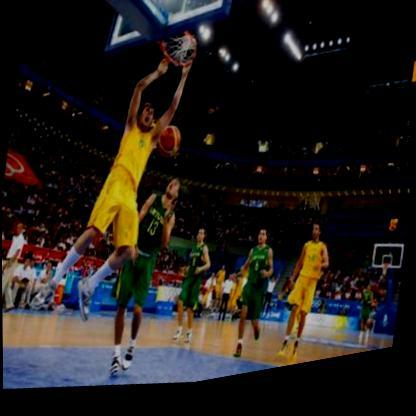basketball: (152, 129, 183, 167)
